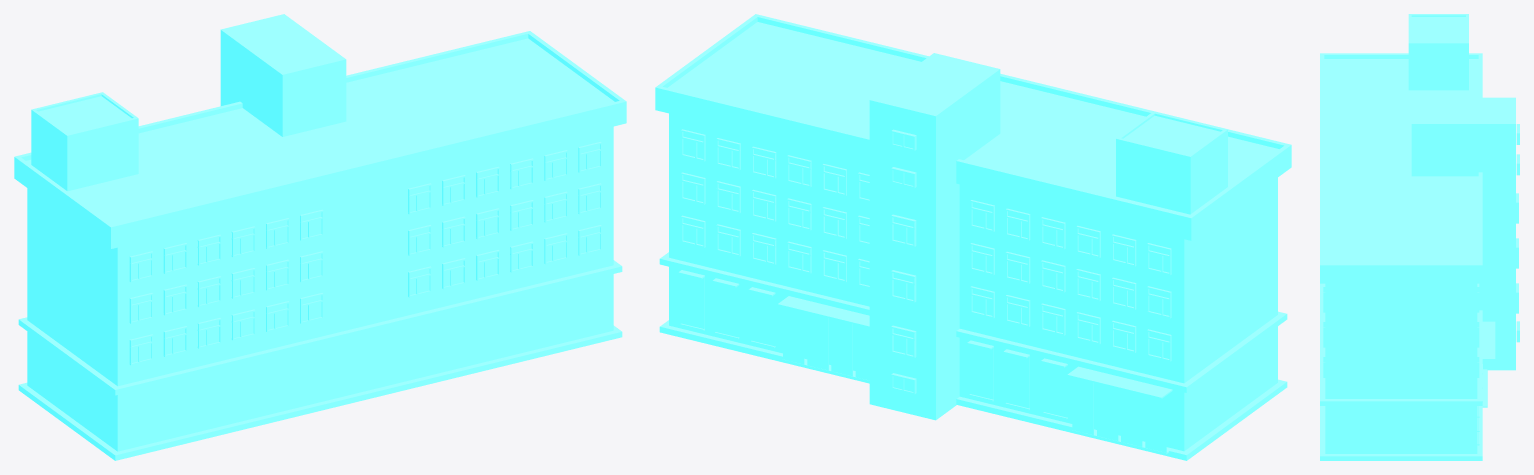
Rendered from 测试楼.gltf.
The picture shows the model from 3 angles, left to right: view 1: azimuth 30°, elevation 25°; view 2: azimuth 150°, elevation 25°; view 3: azimuth 270°, elevation 25°; orthographic projection. The views are drawn at different scales.
Parts seen in each view (by area): view 1: 克隆.4; view 2: 克隆.4; view 3: 克隆.4.
Part boxes in pixels (box(x1,y1,x2,y2)): 克隆.4: box(14, 14, 626, 460); 克隆.4: box(655, 14, 1291, 460); 克隆.4: box(1320, 14, 1519, 460).
Size of the model in its own units: 45.47 by 24.66 by 18.12.
